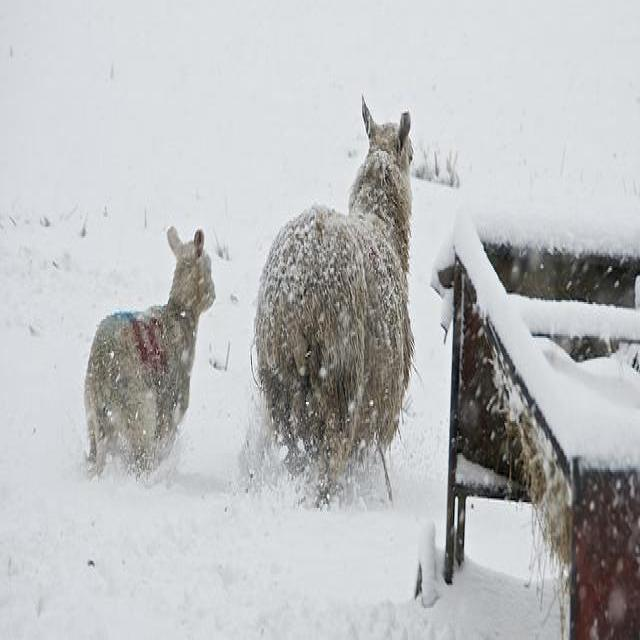Sheep: (252, 96, 417, 502), (83, 228, 217, 491)
